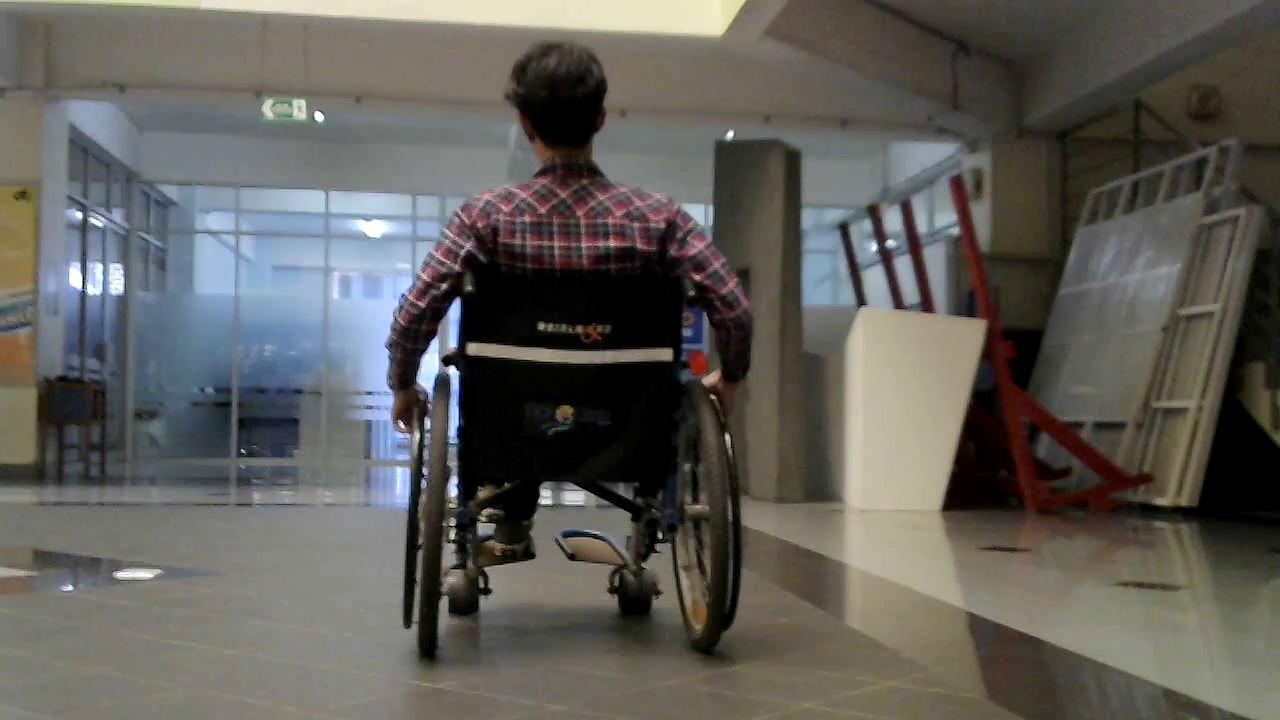person: (384, 40, 754, 577)
wheelchair: (373, 251, 756, 669)
